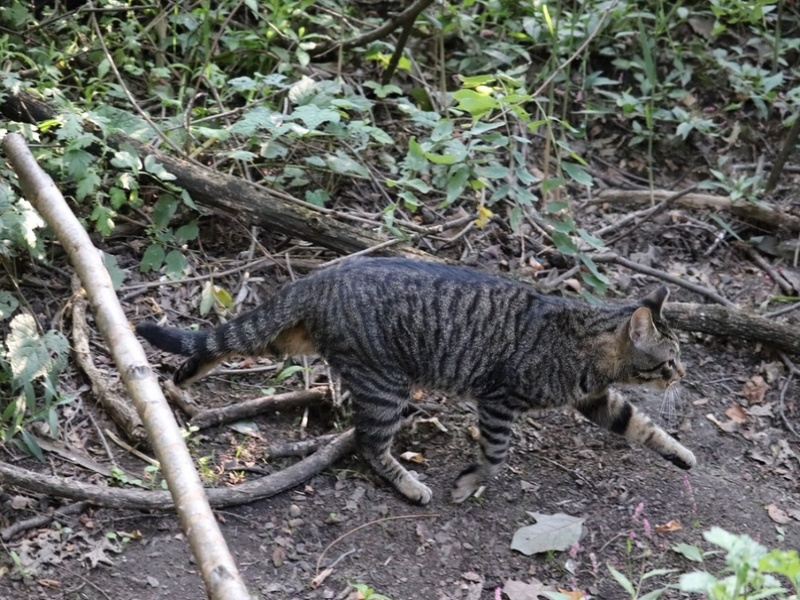cat: (138, 253, 705, 510)
